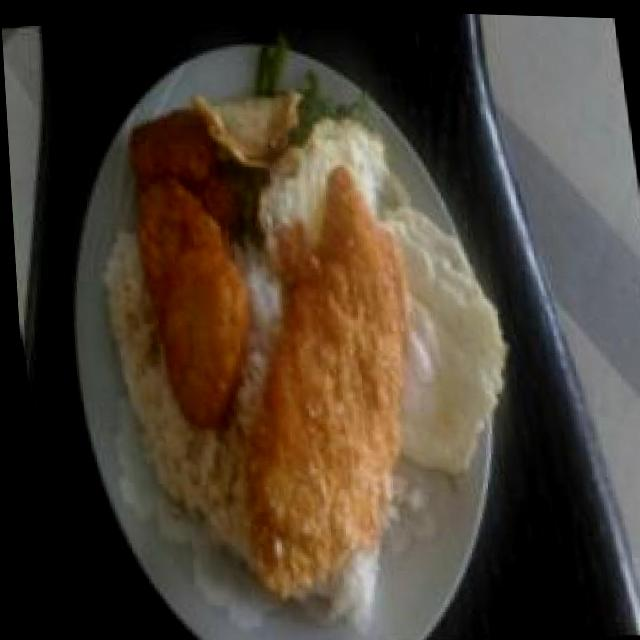fried_chicken: (192, 157, 443, 603)
fried_dumplings: (206, 85, 308, 172)
rice: (95, 227, 171, 493), (159, 413, 238, 533)
triangle_hash_brown: (118, 105, 260, 426)
